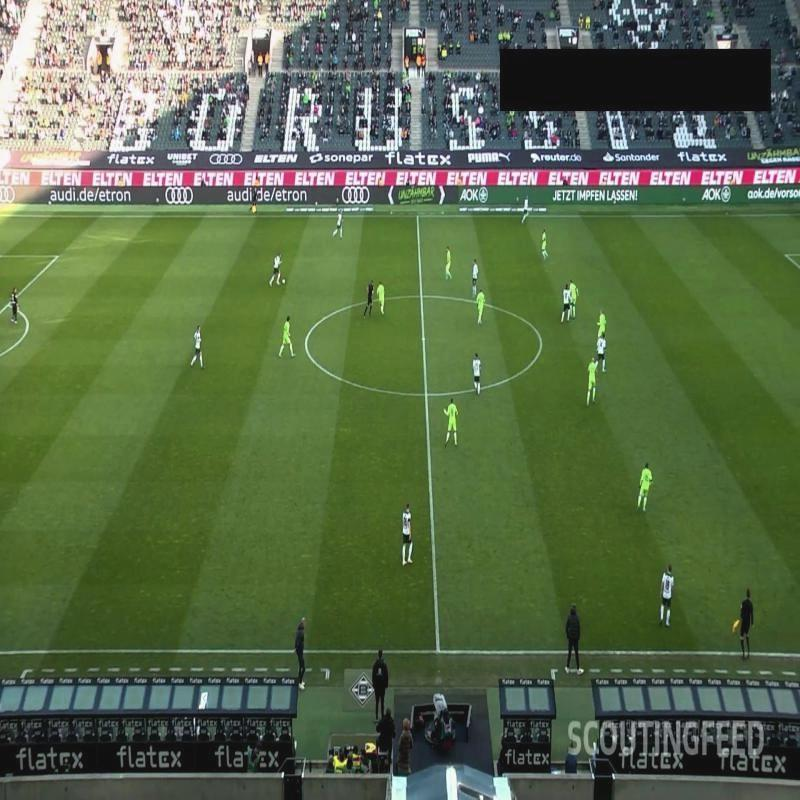10: (2, 296, 16, 310)
13: (410, 208, 424, 222)
14: (414, 288, 428, 301)
15: (418, 386, 432, 400)
16: (430, 642, 446, 660)
9: (46, 247, 68, 266), (780, 249, 794, 262)
c: (296, 334, 315, 354), (533, 334, 550, 352)
